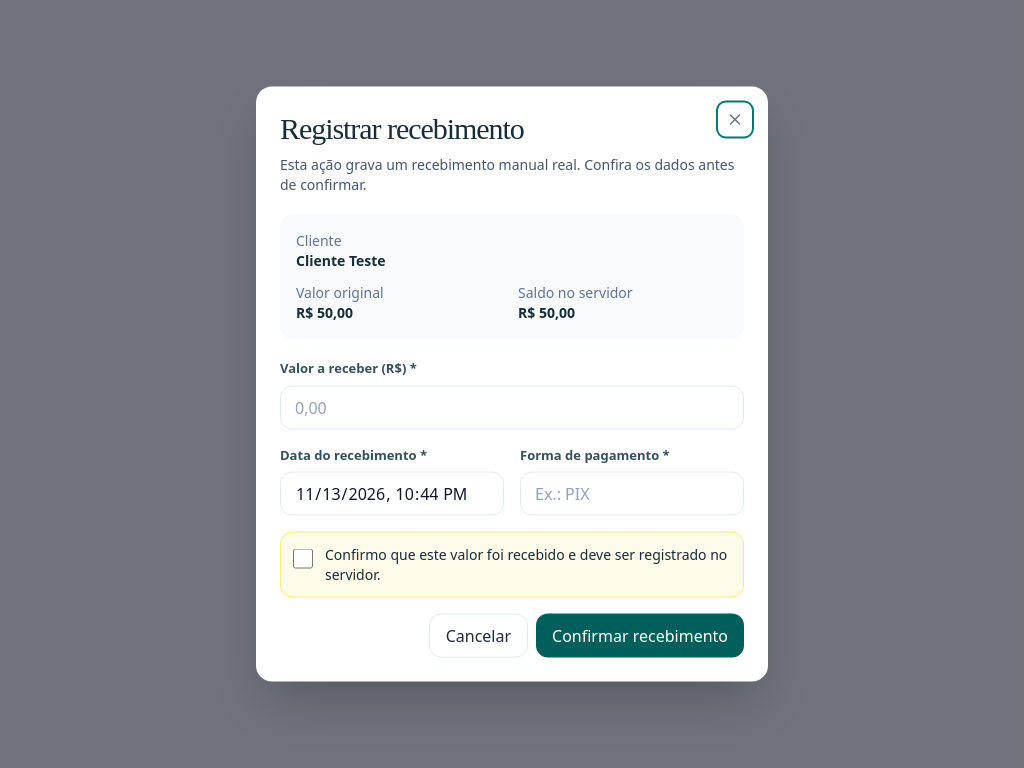
Test: recebimento manual › após 503 e pagamento confirmado, consulta o servidor e impede outro envio
Type "20,00" into the field labelled "Valor a receber (R$) *".
click(512, 407); type("20,00")  # box left=280, top=385, right=744, bottom=429
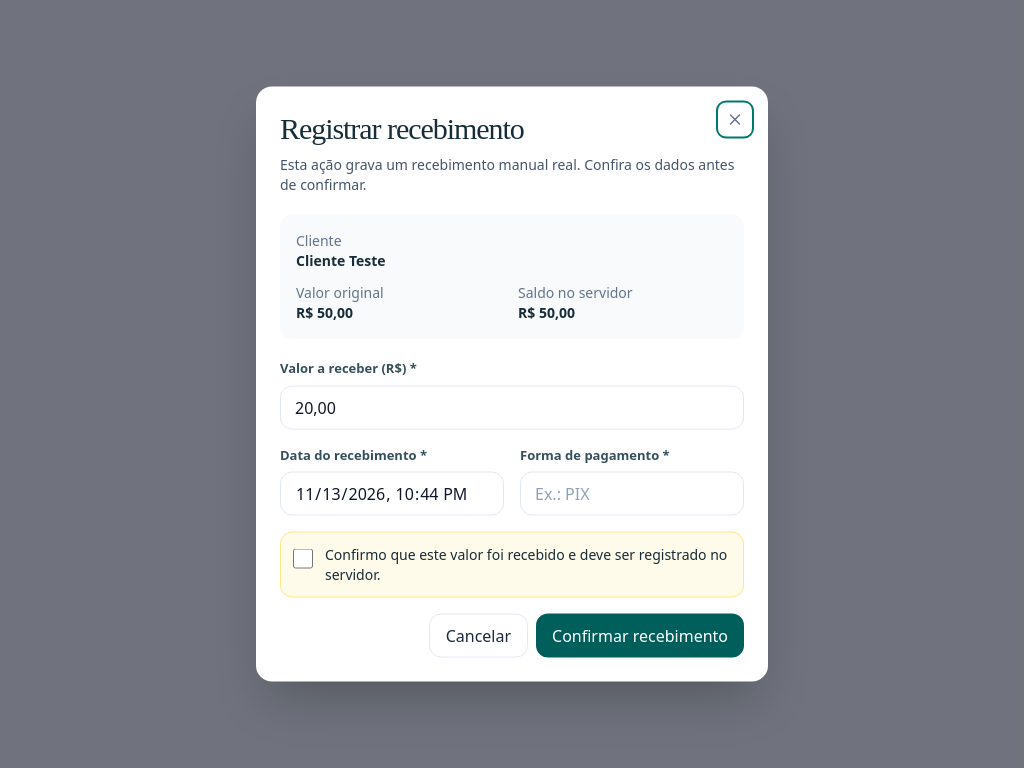
Type "PIX" into the field labelled "Forma de pagamento *".
click(632, 494); type("PIX")  # box left=520, top=472, right=744, bottom=516
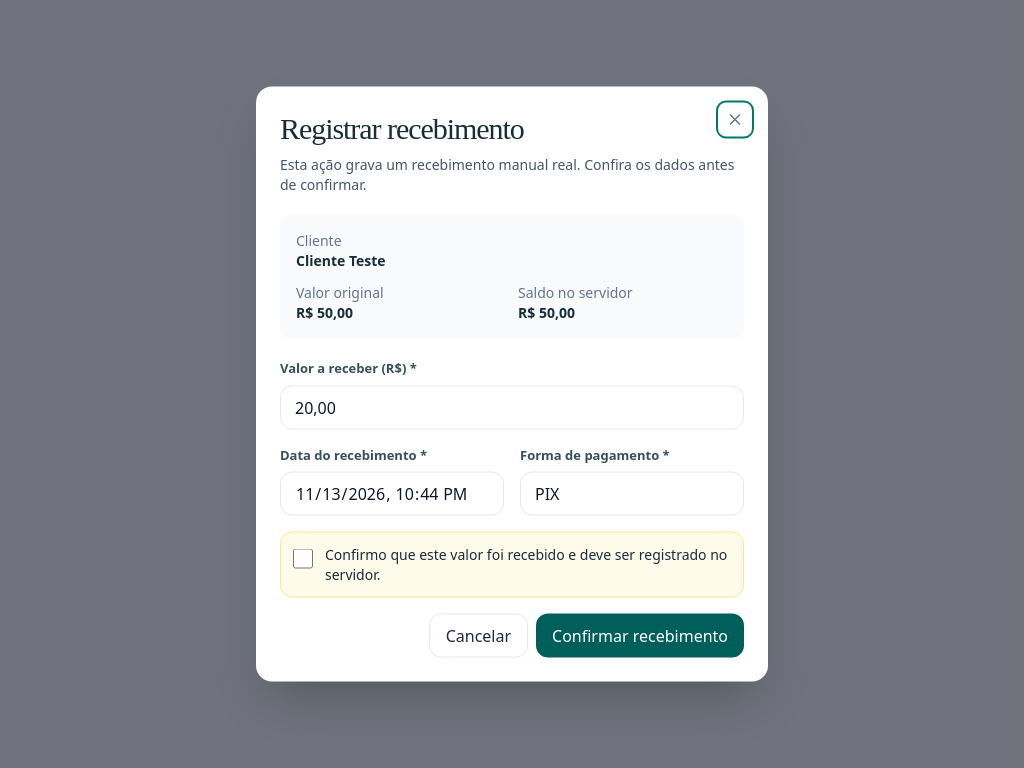
Click the checkbox.
click(303, 558)  # box left=293, top=548, right=313, bottom=568
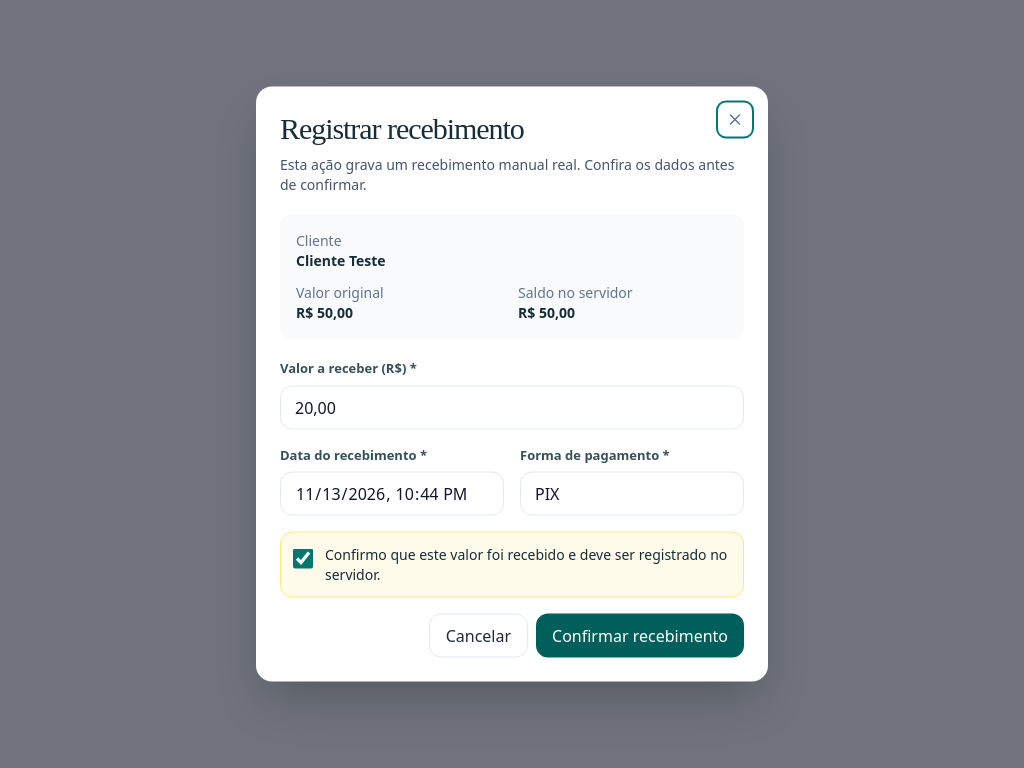
Click the button "Confirmar recebimento".
click(640, 636)  # box left=536, top=614, right=744, bottom=658
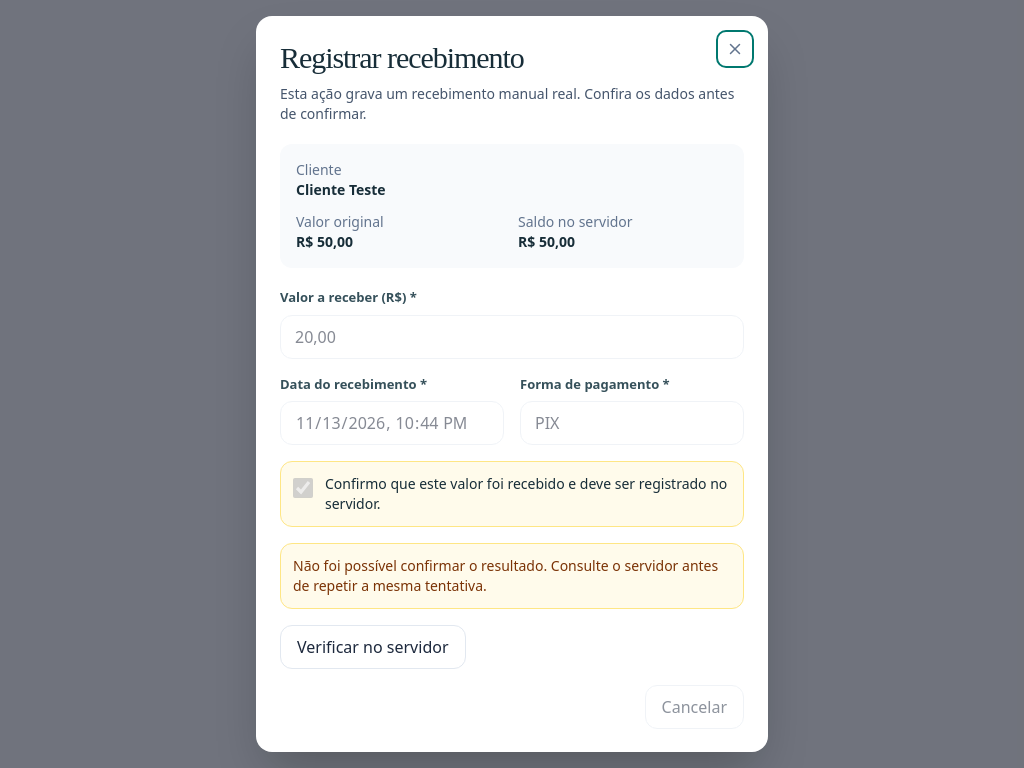
Check: the text "Não foi possível confirmar o resultado" is shown, box left=293, top=556, right=718, bottom=595
Click the button "Verificar no servidor".
click(373, 647)  # box left=280, top=625, right=466, bottom=669
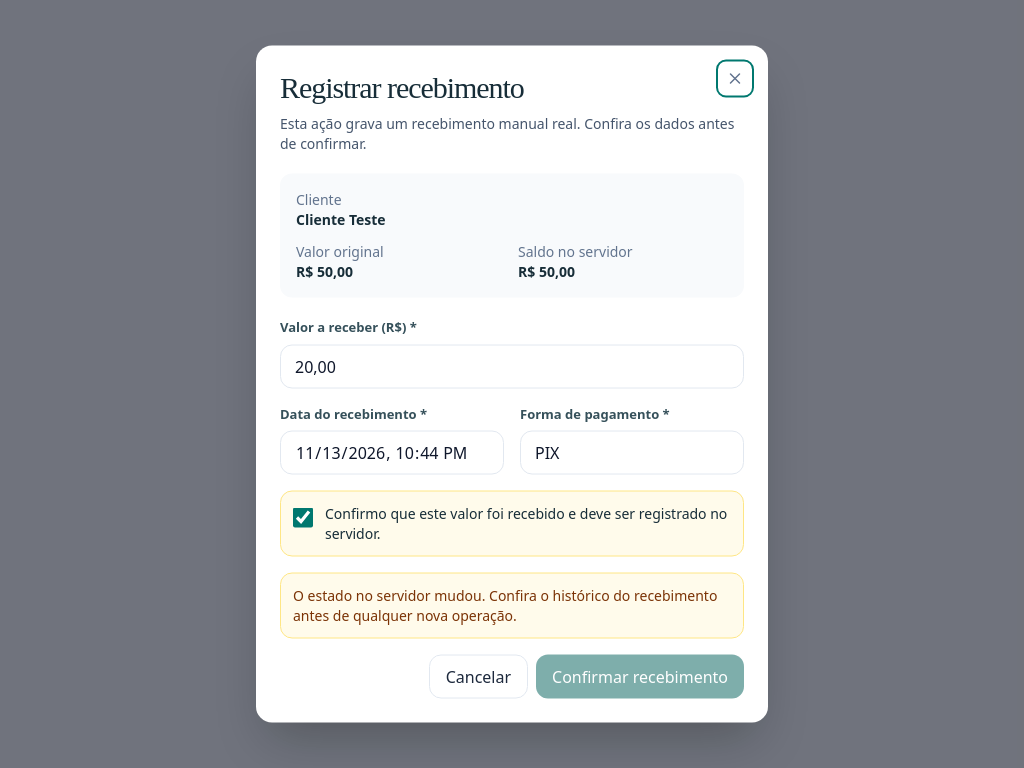
Check: the text "O estado no servidor mudou" is shown, box left=293, top=586, right=717, bottom=624
Check: the button "Confirmar recebimento" is disabled, box left=536, top=654, right=744, bottom=698
